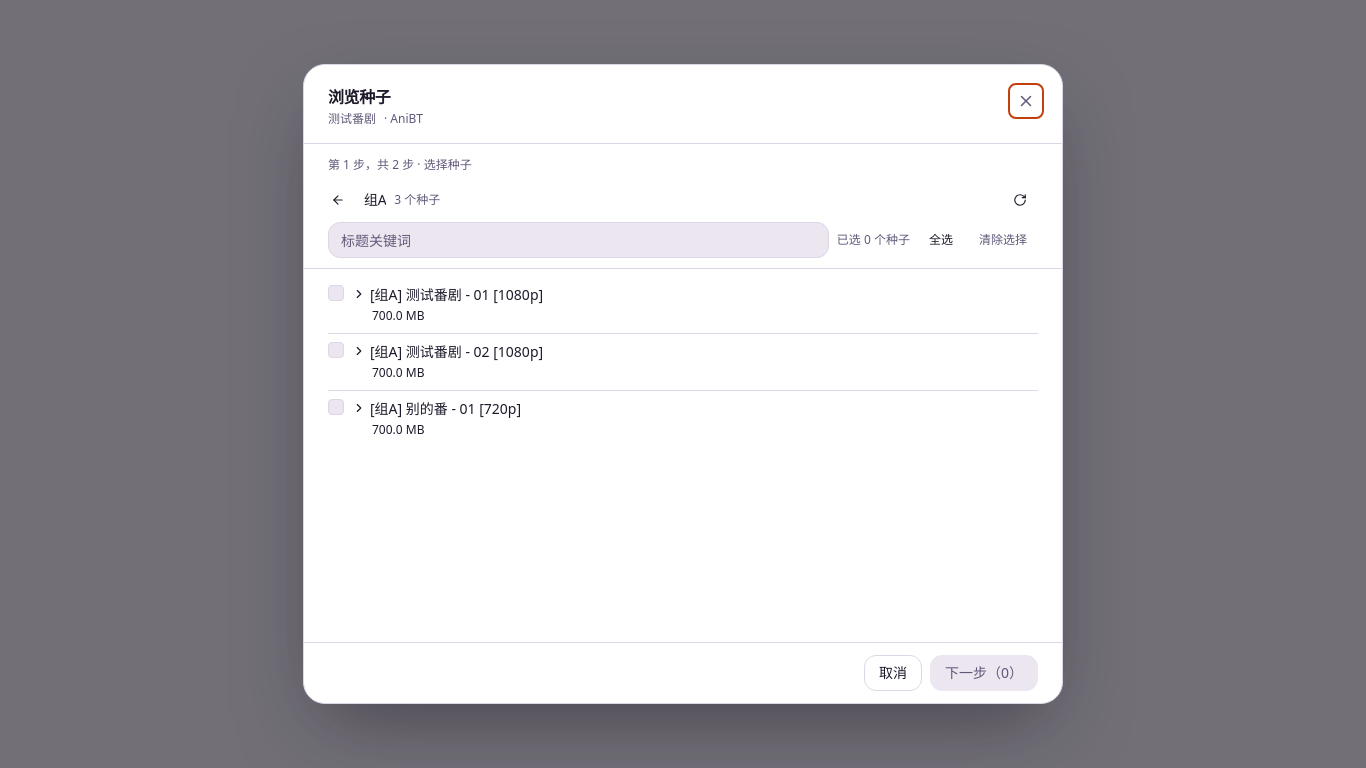
Scenario: OneShotDialog 第一步：种子目录 › 多选：计数正确，筛选只影响可见行不影响已选
Expected: the button named "返回字幕组列表" is shown, [320, 186, 356, 214]
Step 1. Click the checkbox named "[组A] 测试番剧 - 01 [1080p]" → x=336, y=293, box [328, 285, 344, 301]
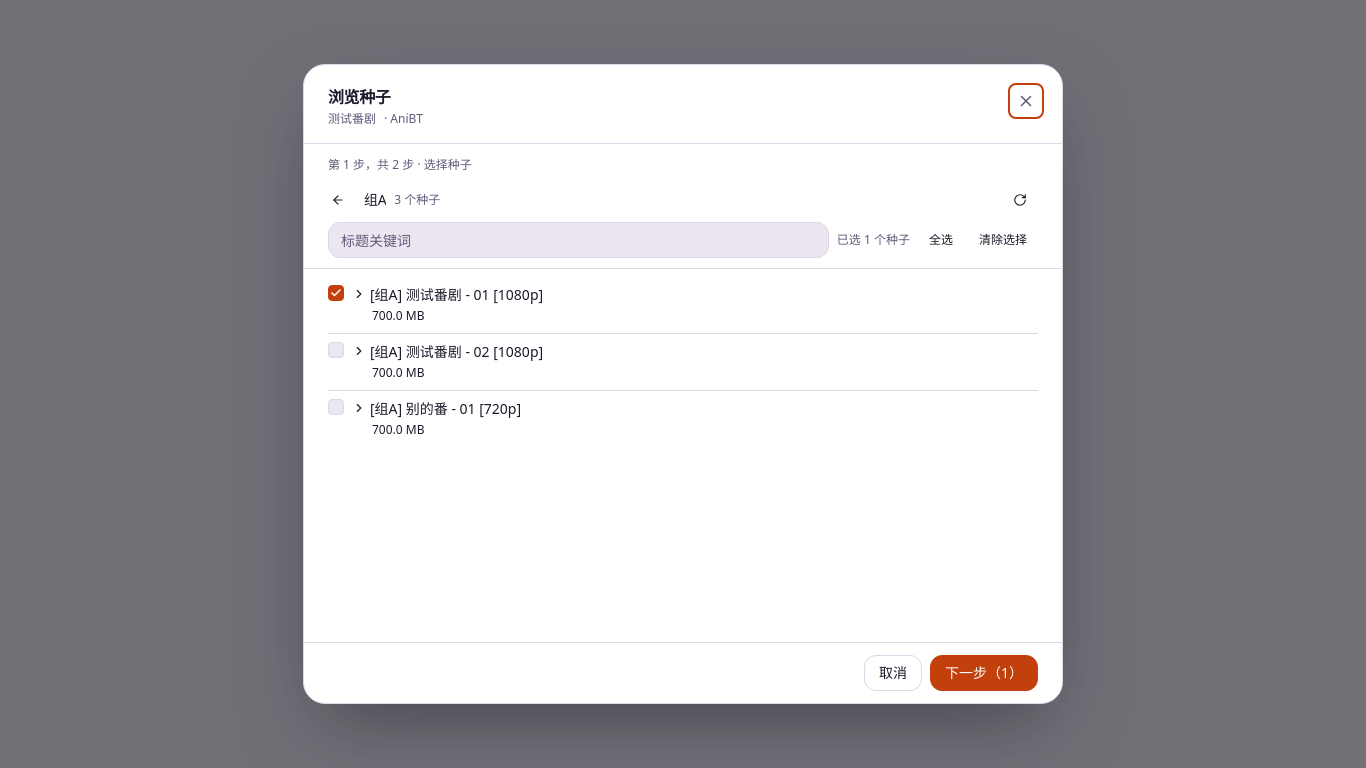
Step 2. Click the checkbox named "[组A] 别的番 - 01 [720p]" → x=336, y=407, box [328, 399, 344, 415]
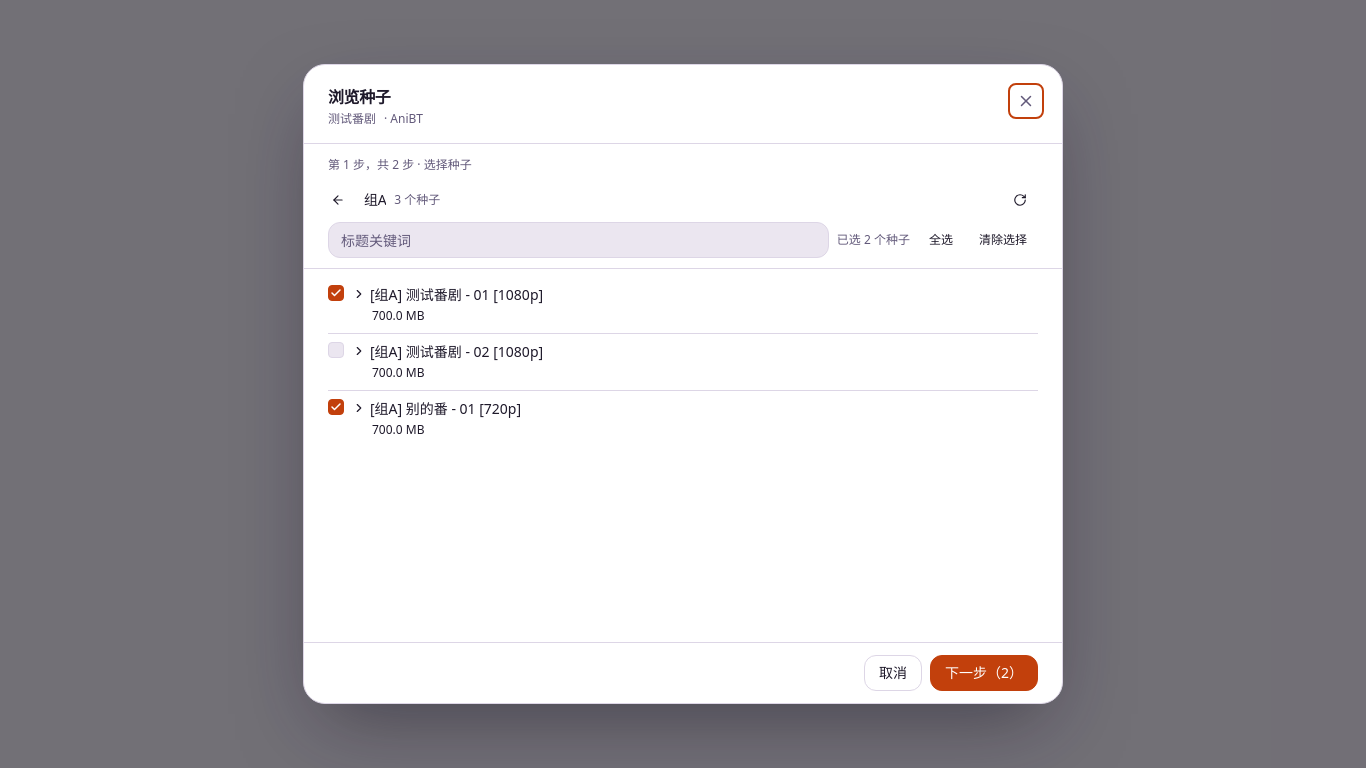
Step 3. Type "别的番" into the field named "筛选种子" → x=578, y=240, box [328, 222, 829, 258]
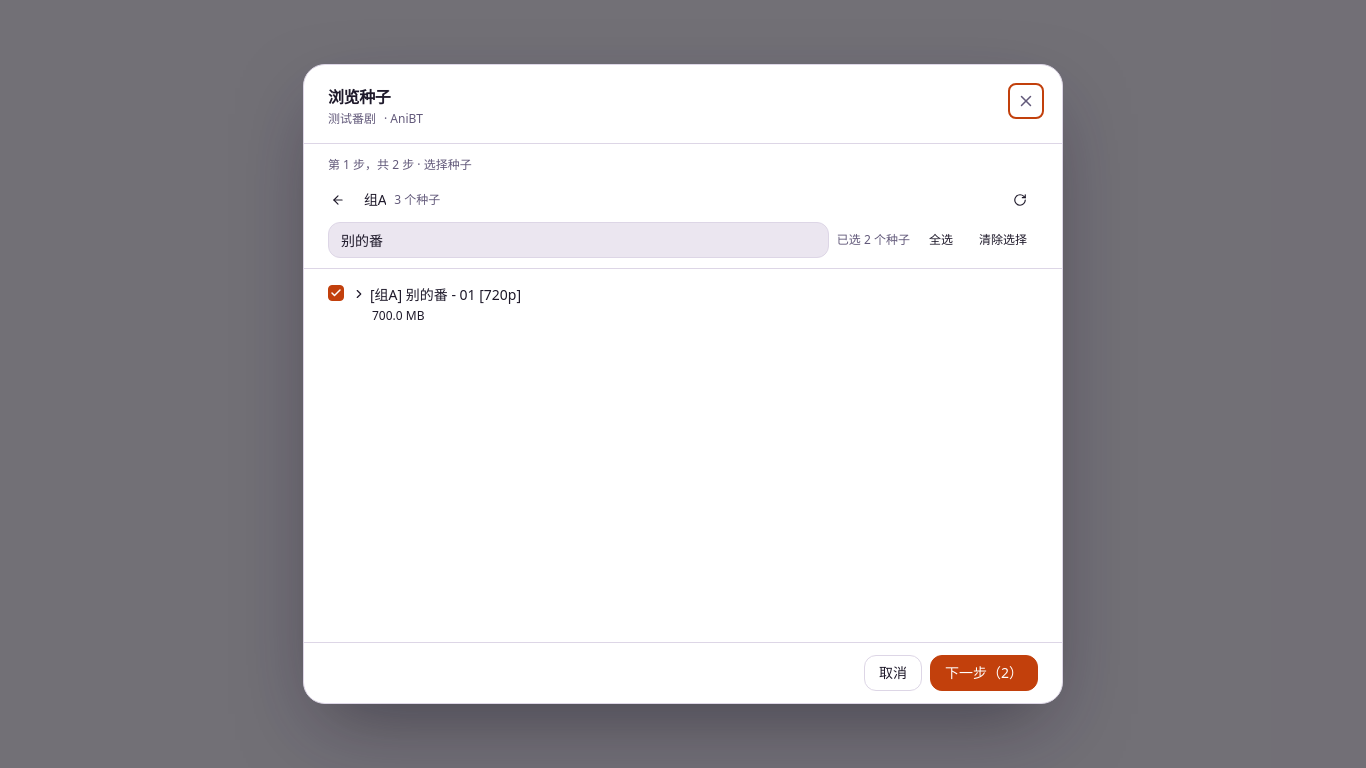
Now the button "[组A] 测试番剧 - 01 [1080p]" is gone
Step 4. Replace the text in the field named "筛选种子" with "不存在" → x=578, y=240, box [328, 222, 829, 258]
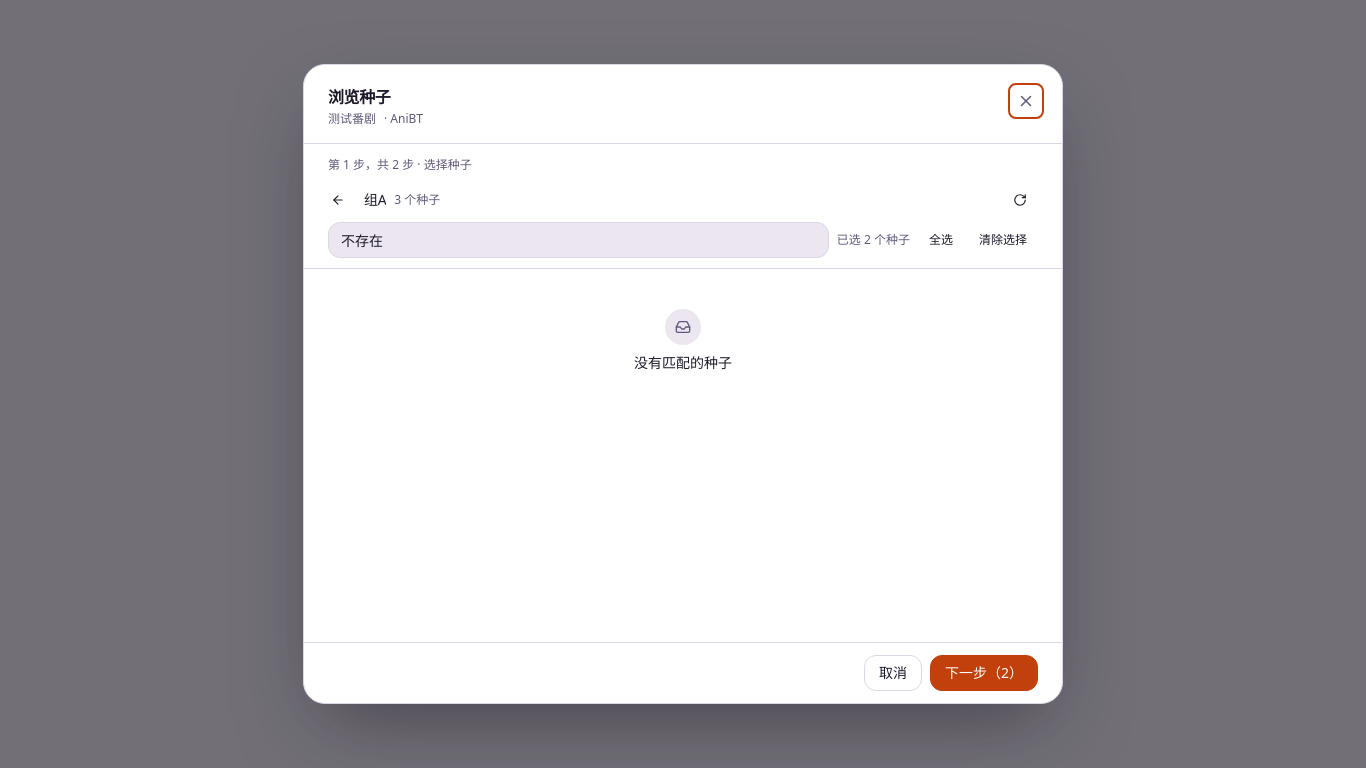
Now the text "没有匹配的种子" is shown, box [634, 353, 732, 373]
